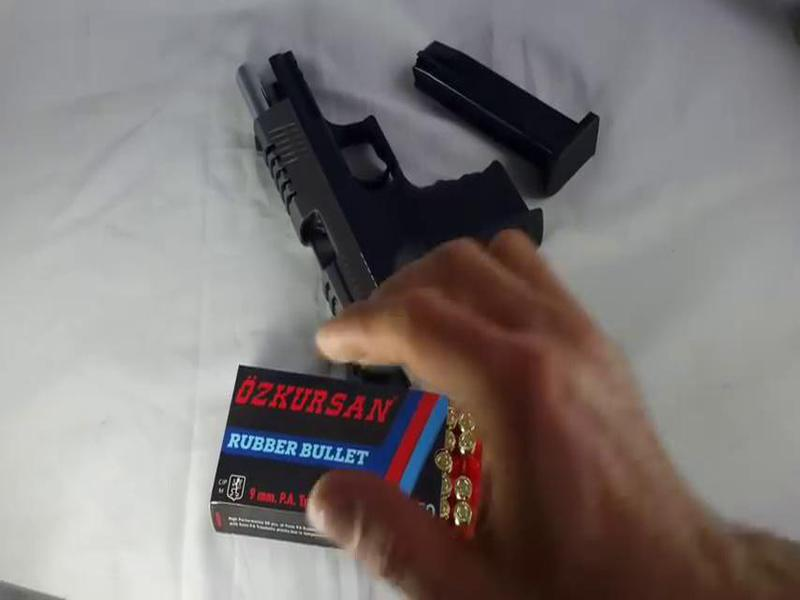Pistola: (215, 30, 572, 327)
